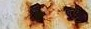Corrosion: (19, 1, 55, 29), (56, 1, 91, 29)
